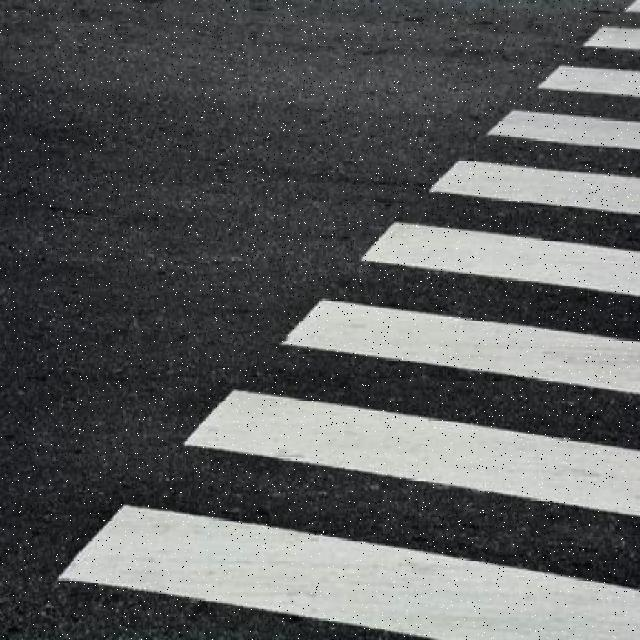Pedestrian crosswalk: (31, 0, 640, 638)
